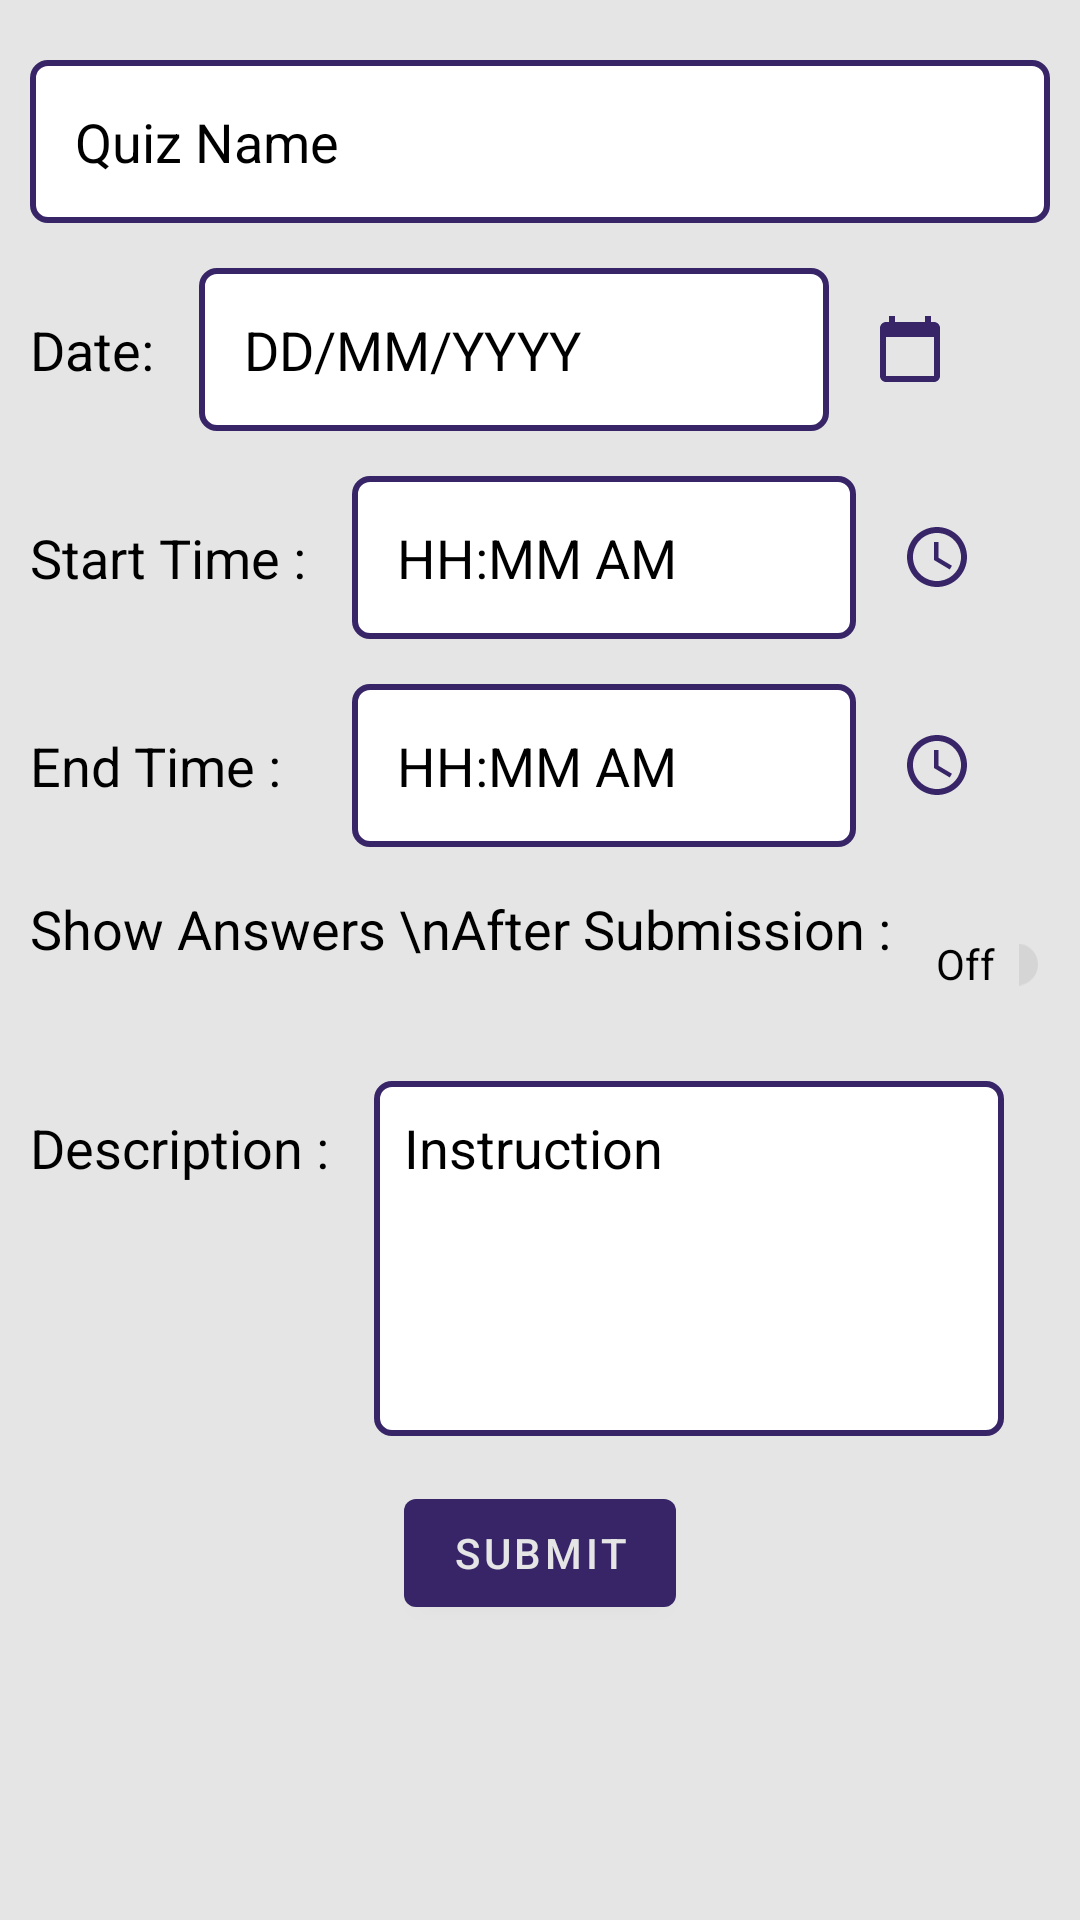

Screen size 1080x1920. Icon name, then its center in pixels as [x,y]:
calendar: [910,349]
clock: [937,557], [937,765]
